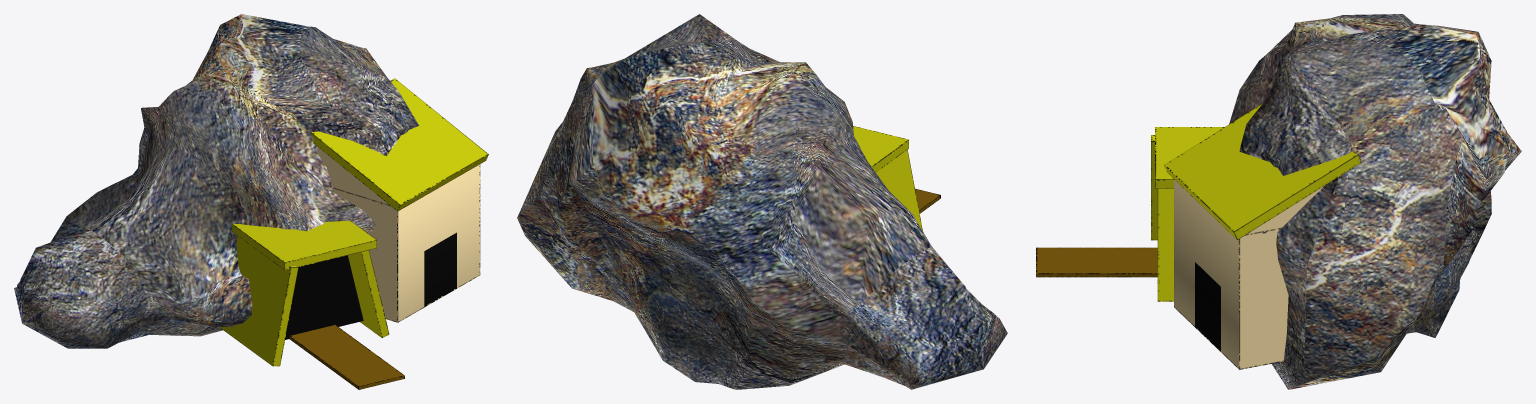
File: gold_mine_lod3.fbx
The picture shows the model from 3 angles, left to right: view 1: azimuth 30°, elevation 25°; view 2: azimuth 150°, elevation 25°; view 3: azimuth 270°, elevation 25°; orthographic projection. The views are drawn at different scales.
Visible parts, largest first — view 1: gold_mine_mesh; view 2: gold_mine_mesh; view 3: gold_mine_mesh.
Part boxes in pixels (x1,y1,x2,y2): gold_mine_mesh: (14, 14, 488, 389); gold_mine_mesh: (517, 14, 1007, 389); gold_mine_mesh: (1036, 14, 1521, 389).
Bounding box in the file's own units: 26.98 × 16.85 × 23.55.
